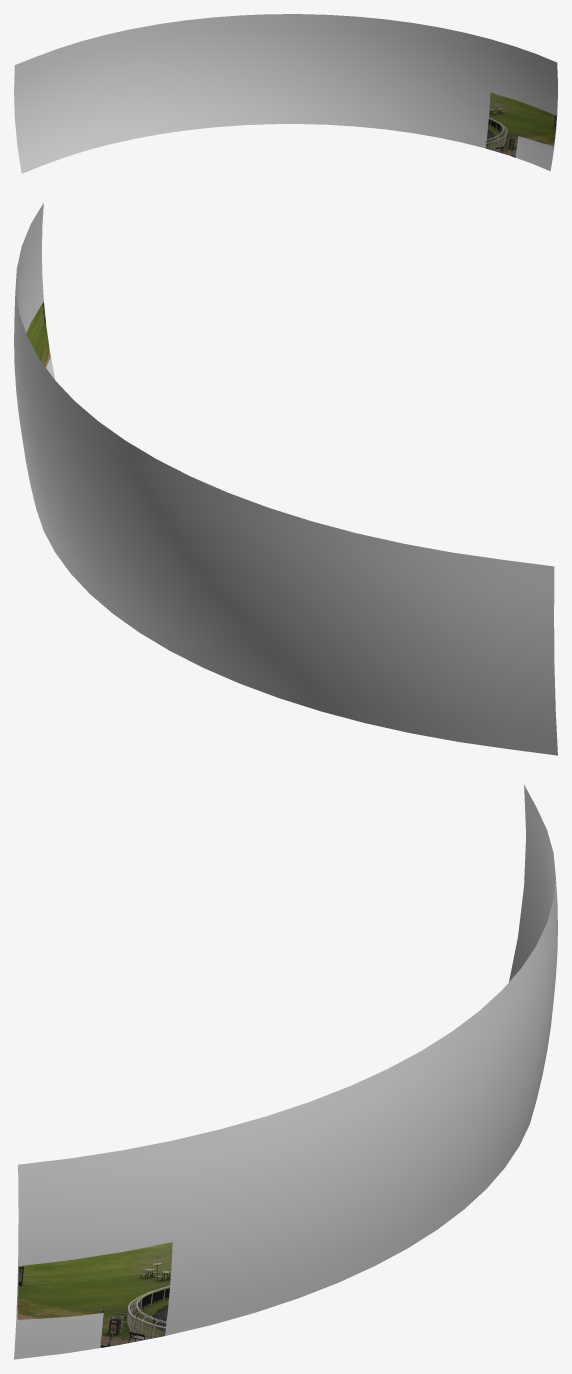
File: Finishline 300m.fbx
The picture shows the model from 3 angles, top to bottom: view 1: azimuth 30°, elevation 25°; view 2: azimuth 150°, elevation 25°; view 3: azimuth 270°, elevation 25°; orthographic projection. The views are drawn at different scales.
Visible parts, largest first — view 1: pSphere1; view 2: pSphere1; view 3: pSphere1.
Part boxes in pixels (x1=…): pSphere1: x1=14, y1=14, x2=557, y2=173; pSphere1: x1=14, y1=202, x2=557, y2=755; pSphere1: x1=14, y1=785, x2=557, y2=1359.
Size of the model in its own units: 7.82 by 1.93 by 4.72.
